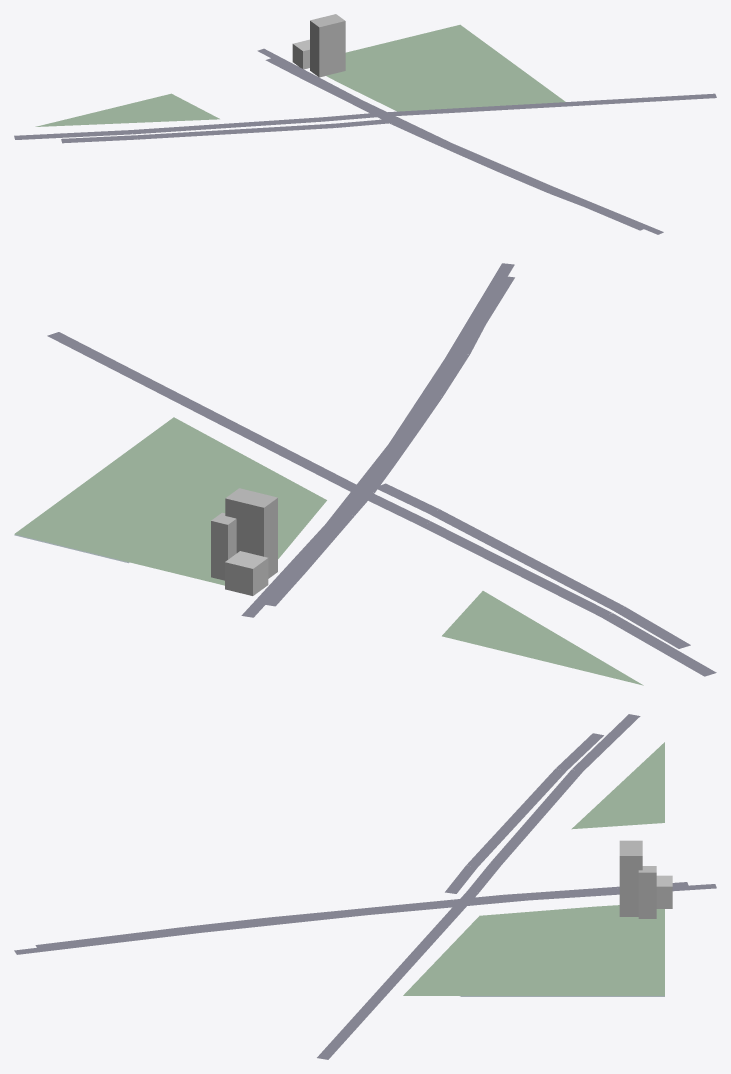
File: 135_115_mid.glb
3 renders of one model, top to bottom at view 1: azimuth 30°, elevation 25°; view 2: azimuth 150°, elevation 25°; view 3: azimuth 270°, elevation 25°, orthographic. The views are drawn at different scales.
Size of the model in its own units: 669 by 56.3 by 582.
